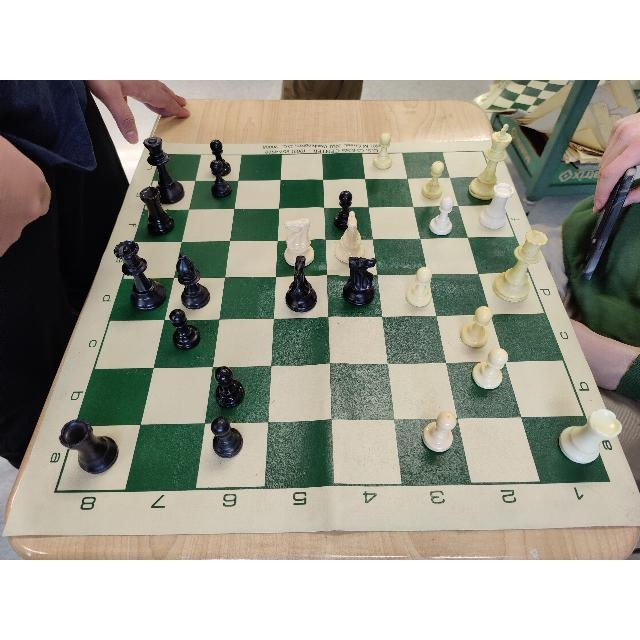black-king: (143, 137, 184, 205)
black-knight: (286, 255, 318, 313), (342, 256, 377, 307)
black-pawn: (213, 366, 244, 410), (211, 417, 243, 459), (168, 309, 200, 351), (210, 159, 230, 199), (334, 190, 353, 229), (210, 140, 230, 176)
black-queen: (113, 239, 166, 311)
black-rook: (59, 417, 120, 474), (139, 185, 174, 237)
white-king: (468, 123, 512, 200)
white-knight: (335, 210, 366, 265), (284, 218, 315, 266)
white-pawn: (473, 347, 509, 391), (423, 411, 458, 454), (460, 305, 492, 349), (406, 266, 433, 308), (429, 197, 453, 235), (423, 160, 445, 199), (372, 133, 391, 169)
white-queen: (493, 230, 547, 302)
white-rook: (559, 409, 623, 465), (479, 183, 515, 229)
